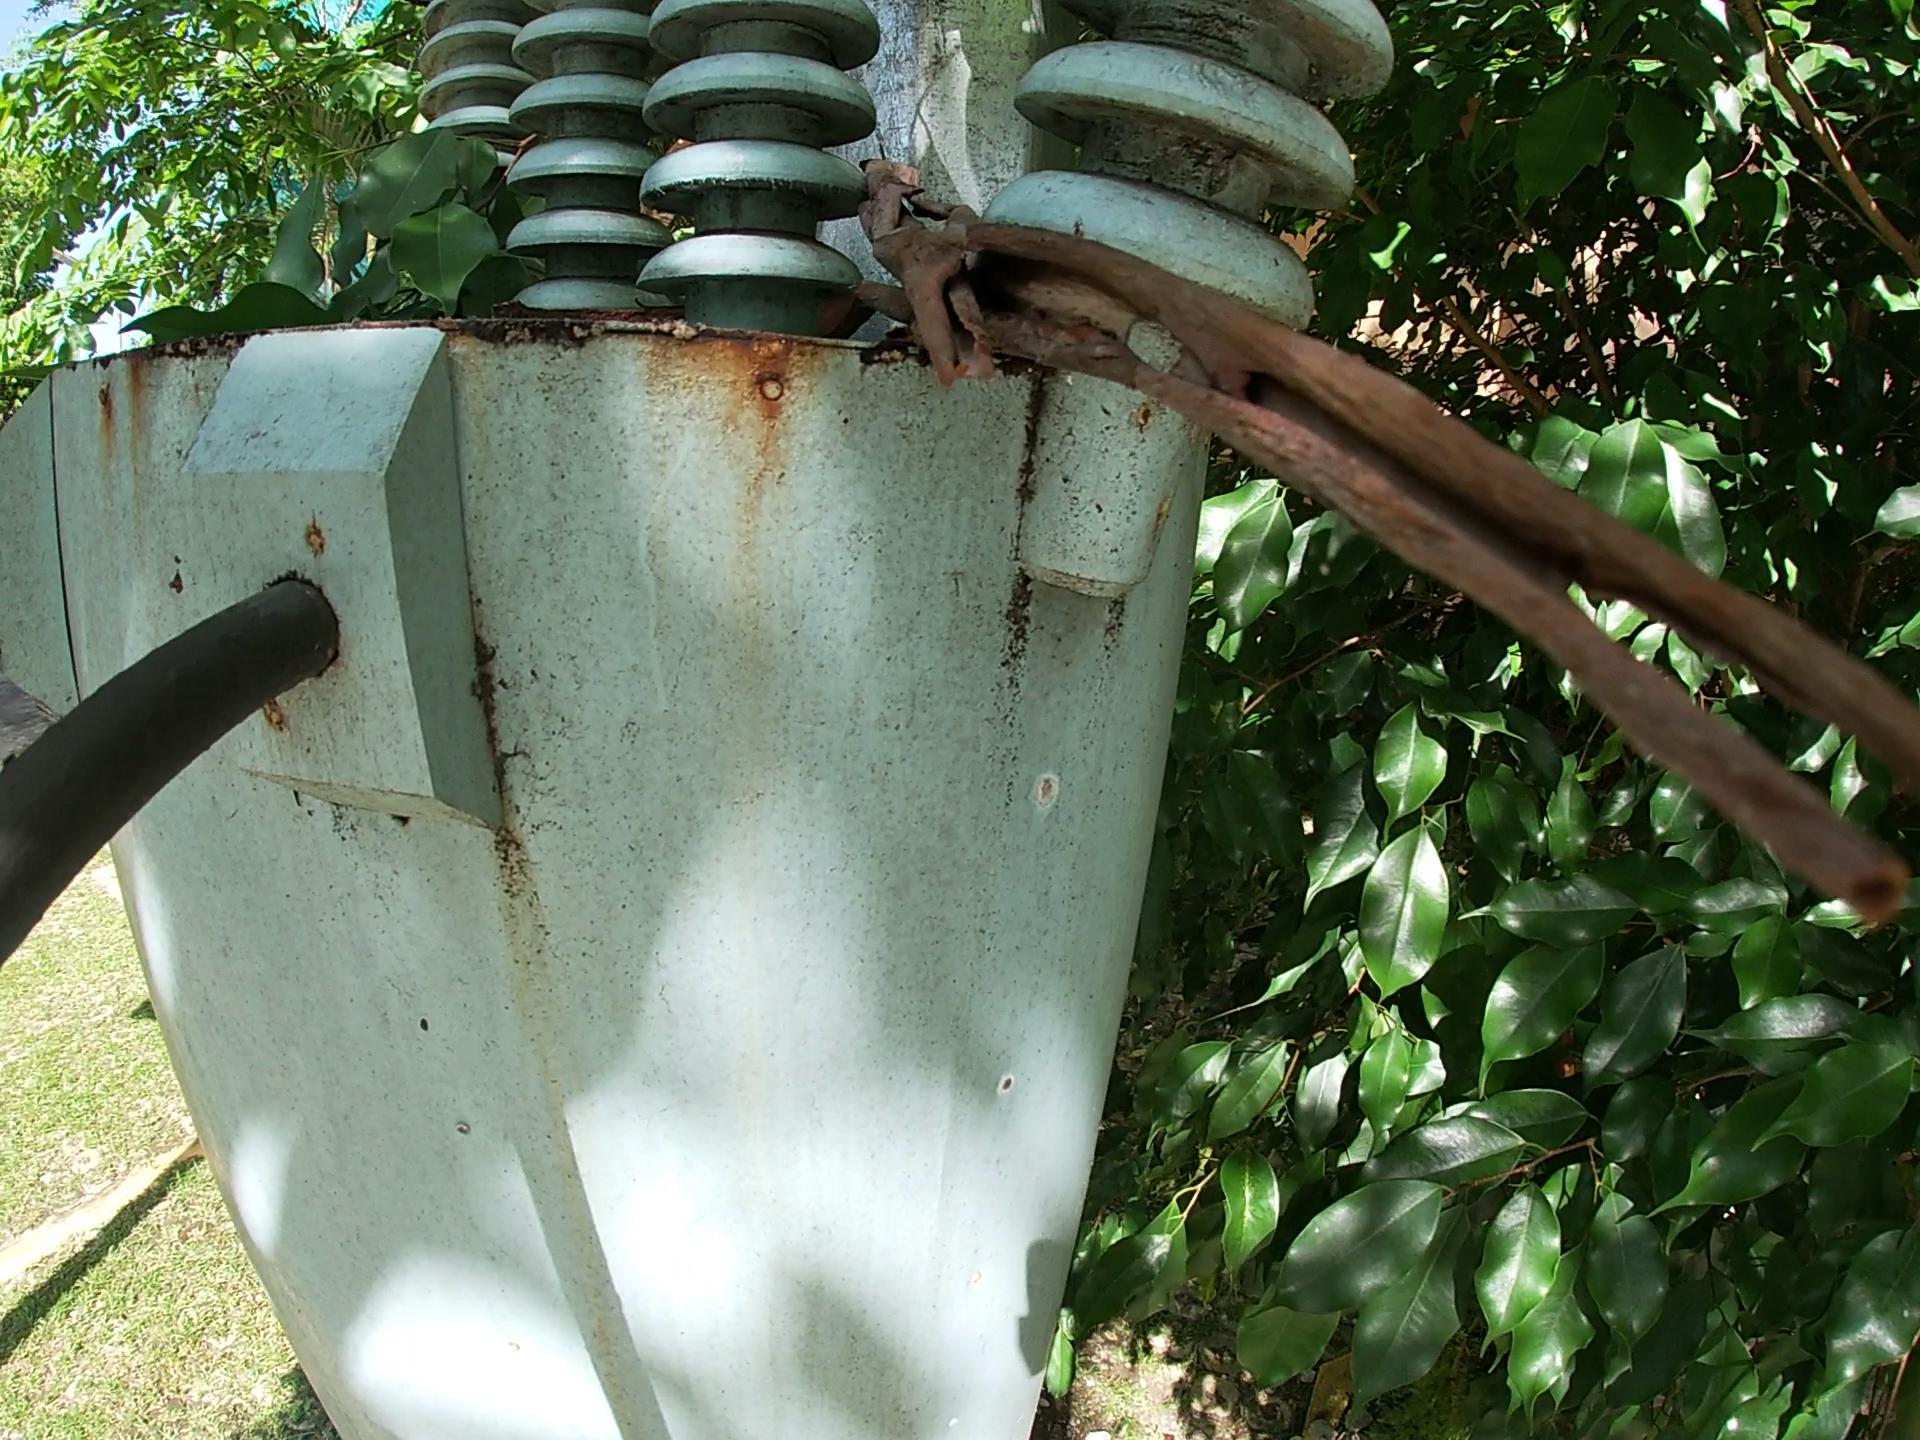branch with leaves: (11, 110, 525, 374)
mahogany fruit: (529, 296, 686, 330)
tree branch: (841, 148, 1915, 971)
